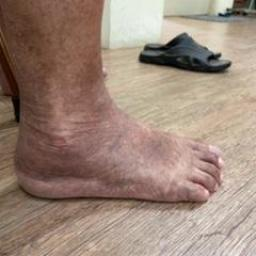Lateral View -Right Foot-: (5, 74, 236, 220)
